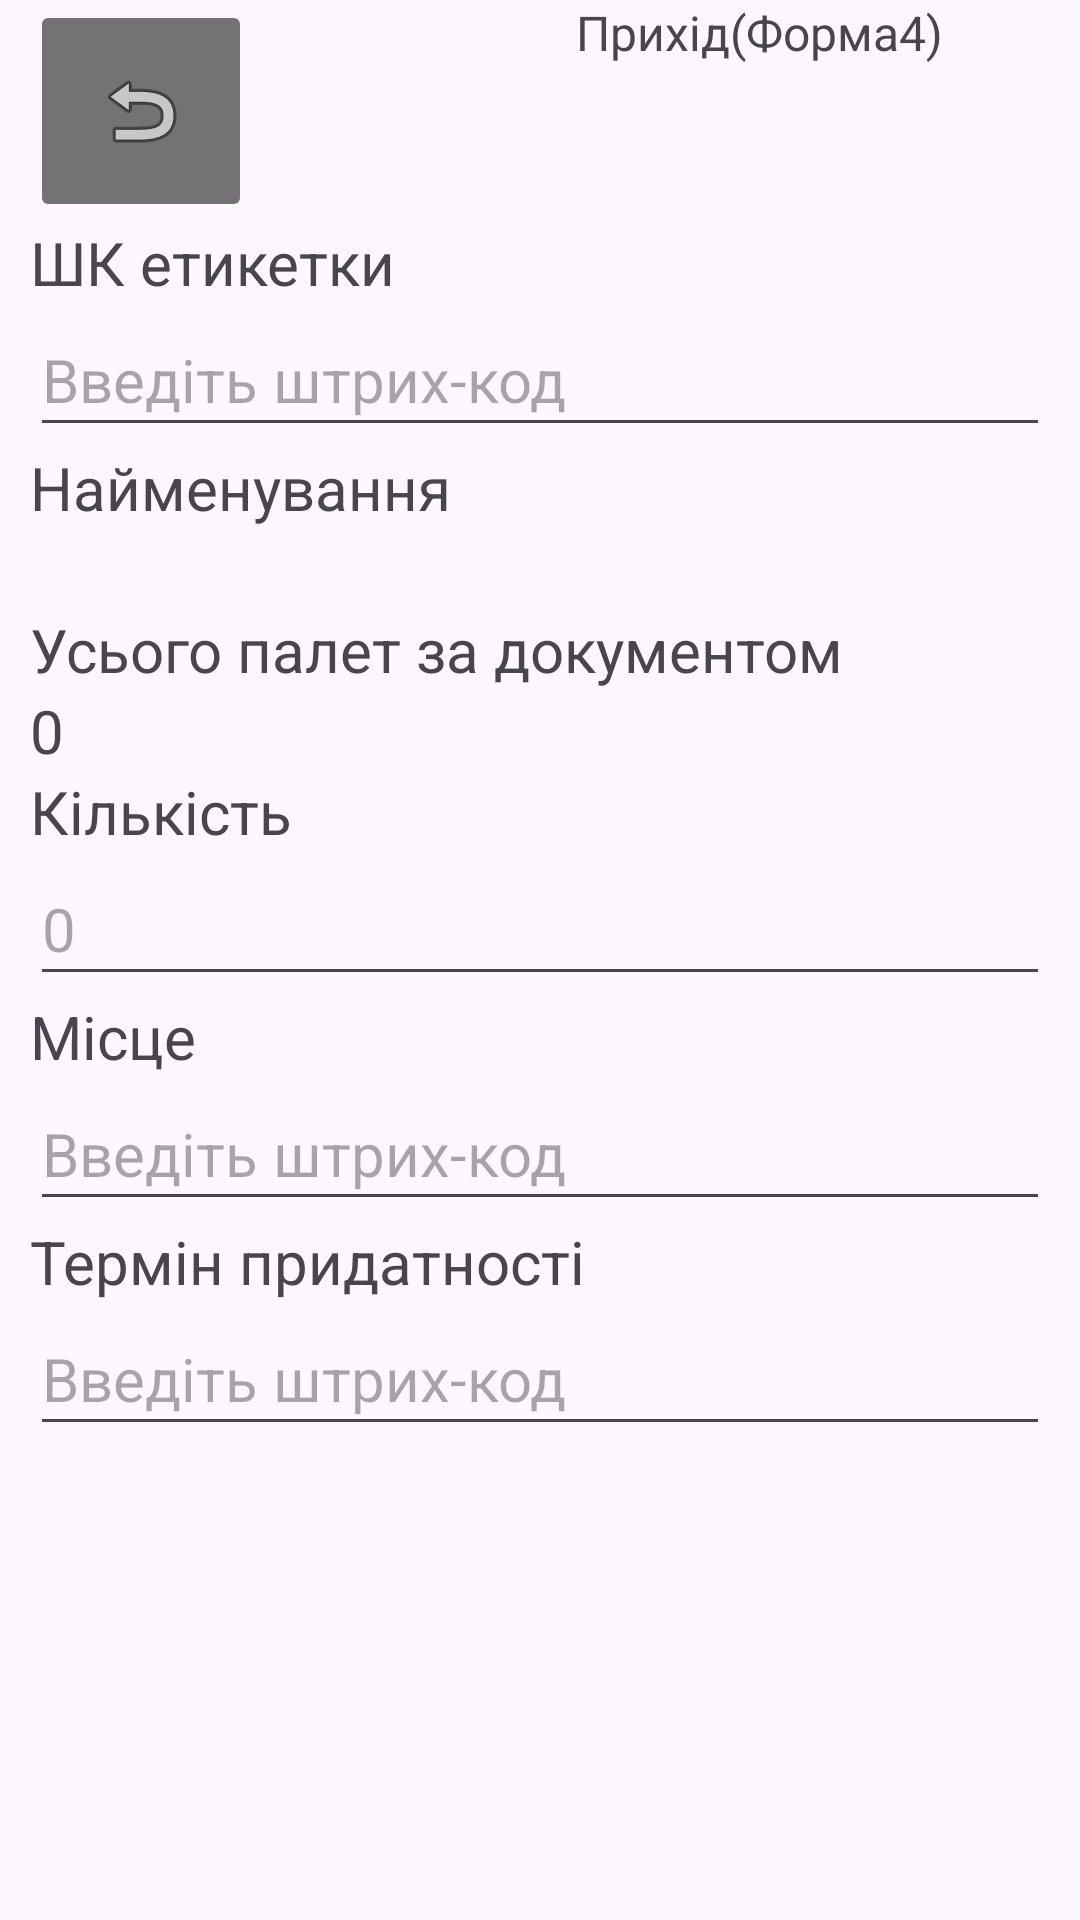

Where icons sit on this 1080px×1920px app screen, as (x1, y1, x2, y2):
На головну: (42, 18, 240, 204)
